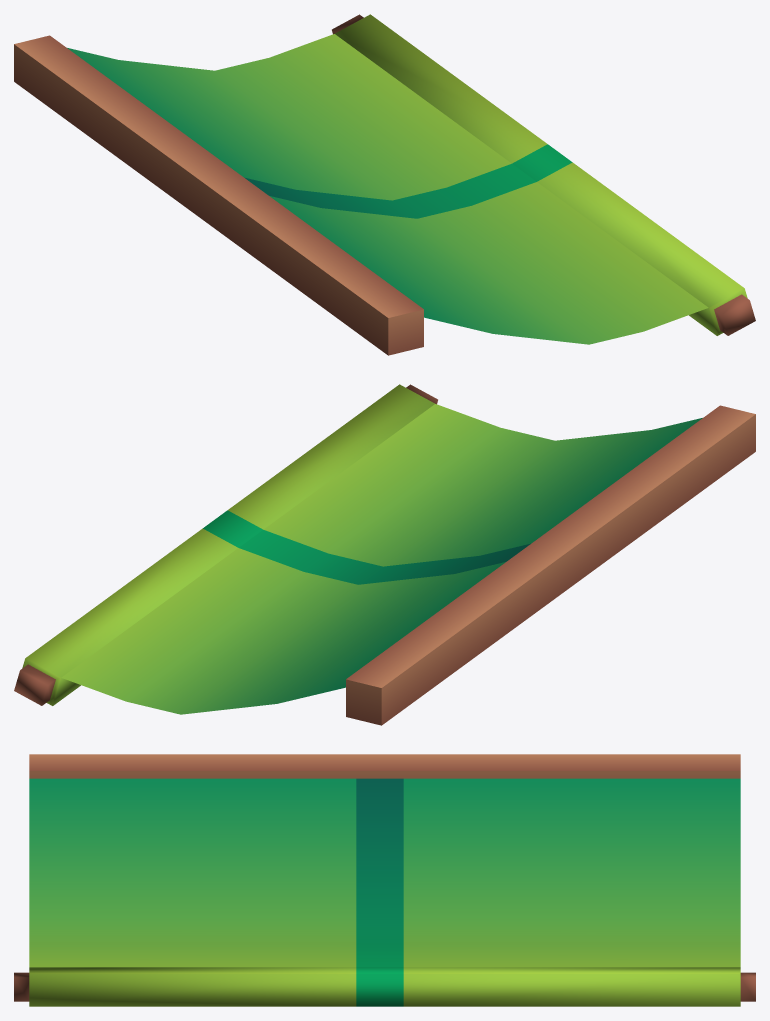
File: Parasol05.fbx
The picture shows the model from 3 angles, top to bottom: view 1: azimuth 30°, elevation 25°; view 2: azimuth 150°, elevation 25°; view 3: azimuth 270°, elevation 25°; orthographic projection. The views are drawn at different scales.
Visible parts, largest first — view 1: Parasol05; view 2: Parasol05; view 3: Parasol05.
Boxes of the visible parts, x1,y1,x2,y2 form: Parasol05: (14,14,755,355); Parasol05: (14,384,755,725); Parasol05: (14,754,755,1006).
Size of the model in its own units: 0.8901 by 0.2294 by 1.65.
Materials: 1 (1 with a texture image).
